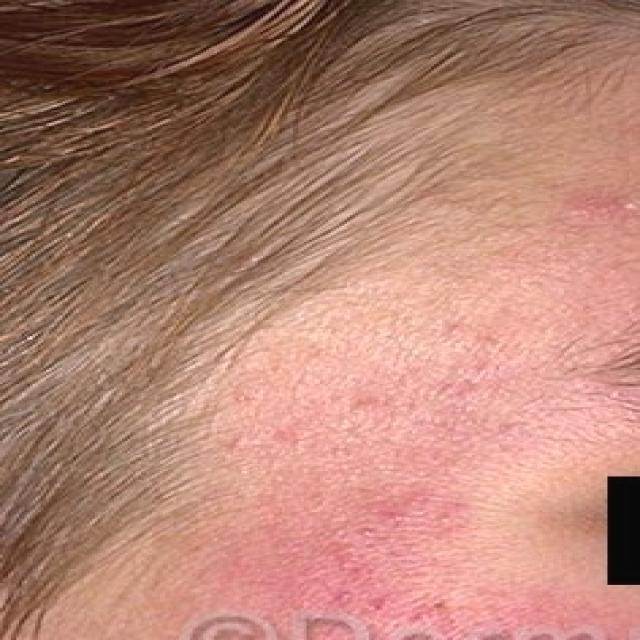Rosacea: (172, 188, 640, 628)
